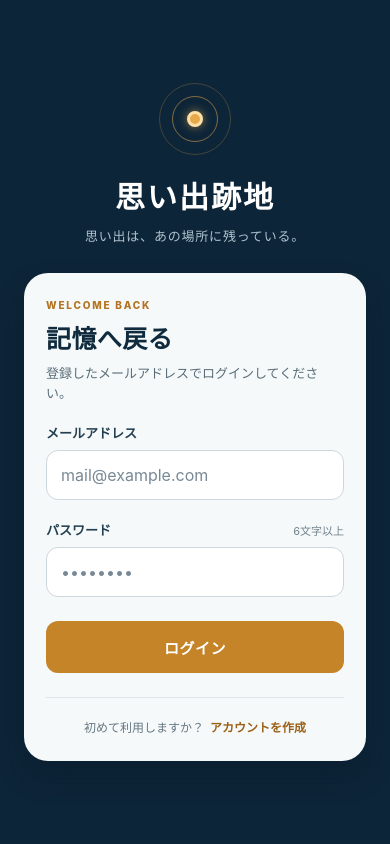
<AuthScreen /> › 有効なログイン情報を正規化して送信し成功を表示する
Type "  memory@example.com  " into the field named "メールアドレス" at coordinates (195, 475), box [46,450,344,500]
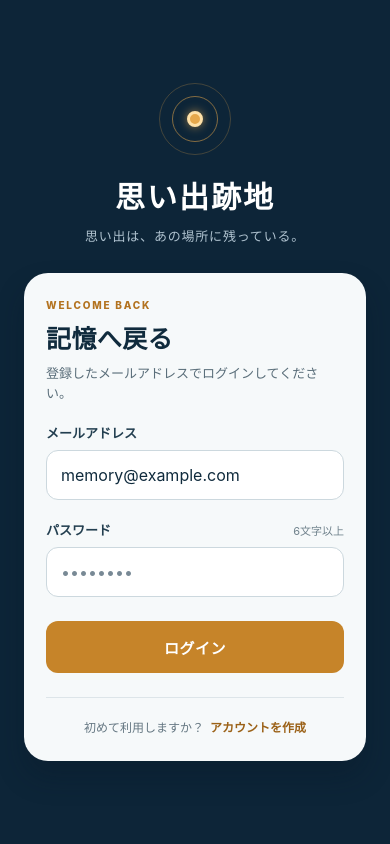
Type "secret1" into the password field named "パスワード" at coordinates (195, 572), box [46,547,344,597]
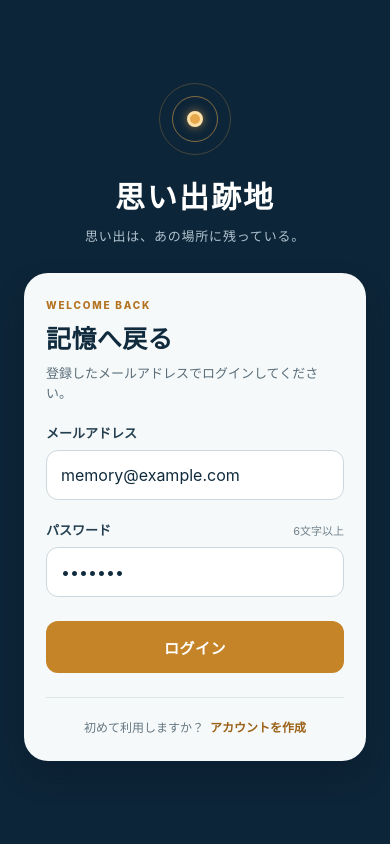
Click the button "ログイン" at coordinates (195, 647), box [46,621,344,673]
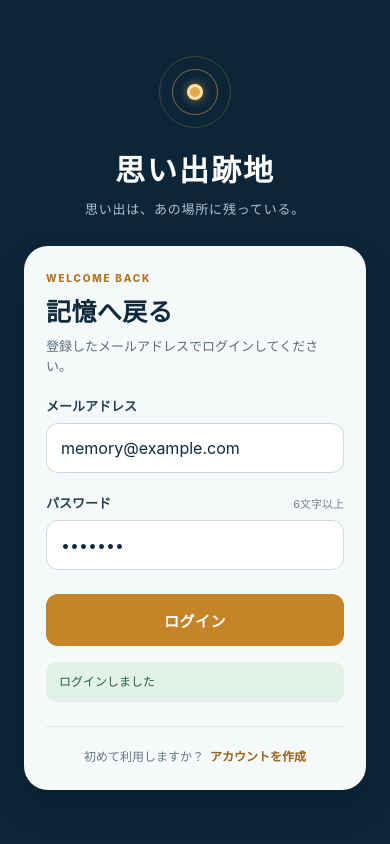
Expected: the text "ログインしました" is shown, [59,674,155,689]
